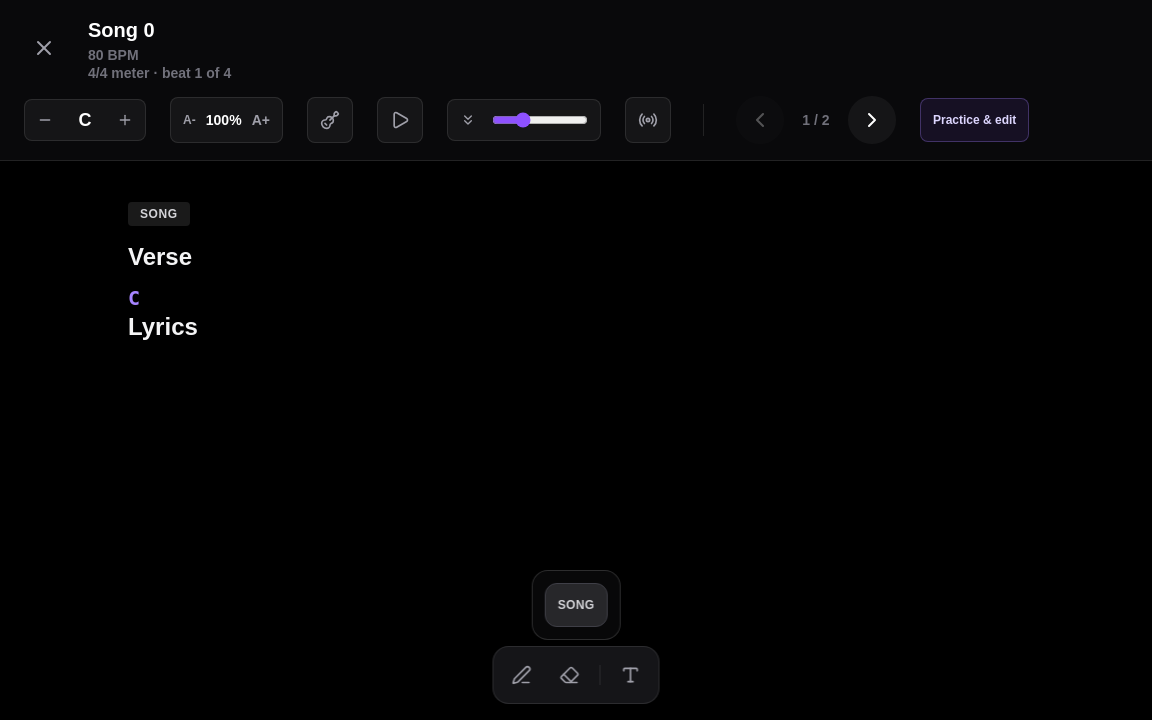
Test: restores the last successfully saved key when a subsequent save fails
The width and height of the screenshot is (1152, 720).
Check: the text "C" in the row of "100" is shown, box [78,110,92,130]
Step 1. Click the button named "Raise setlist key" → click(125, 120), box [109,104,141,136]
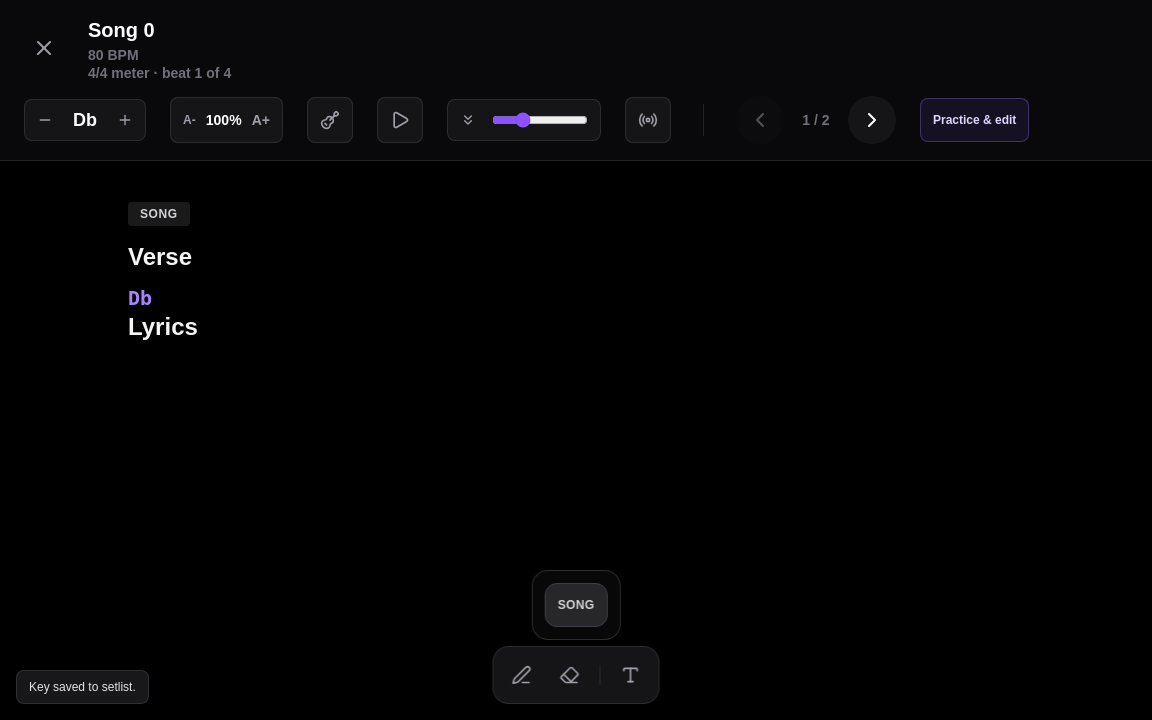
Check: the text "Key saved to setlist." is shown, box [16,670,149,704]
Check: the text "Db" in the row of "100" is shown, box [73,110,97,130]
Step 2. Click the button named "Raise setlist key" → click(125, 120), box [109,104,141,136]
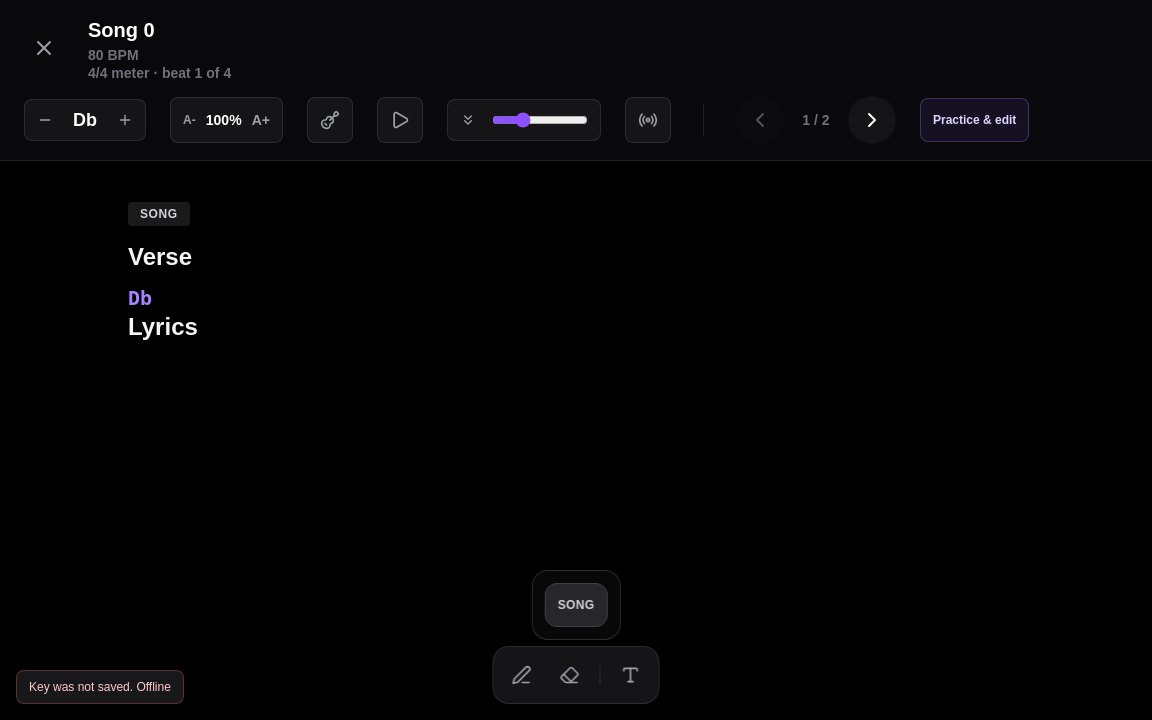
Check: the text "Db" in the row of "100" is shown, box [73,110,97,130]
Check: the message "Key was not saved. Offline" is shown, box [16,670,184,704]
